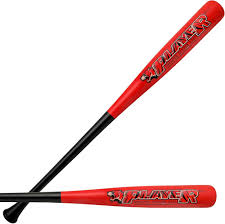baseball bat: (1, 1, 225, 223), (1, 184, 217, 209)
